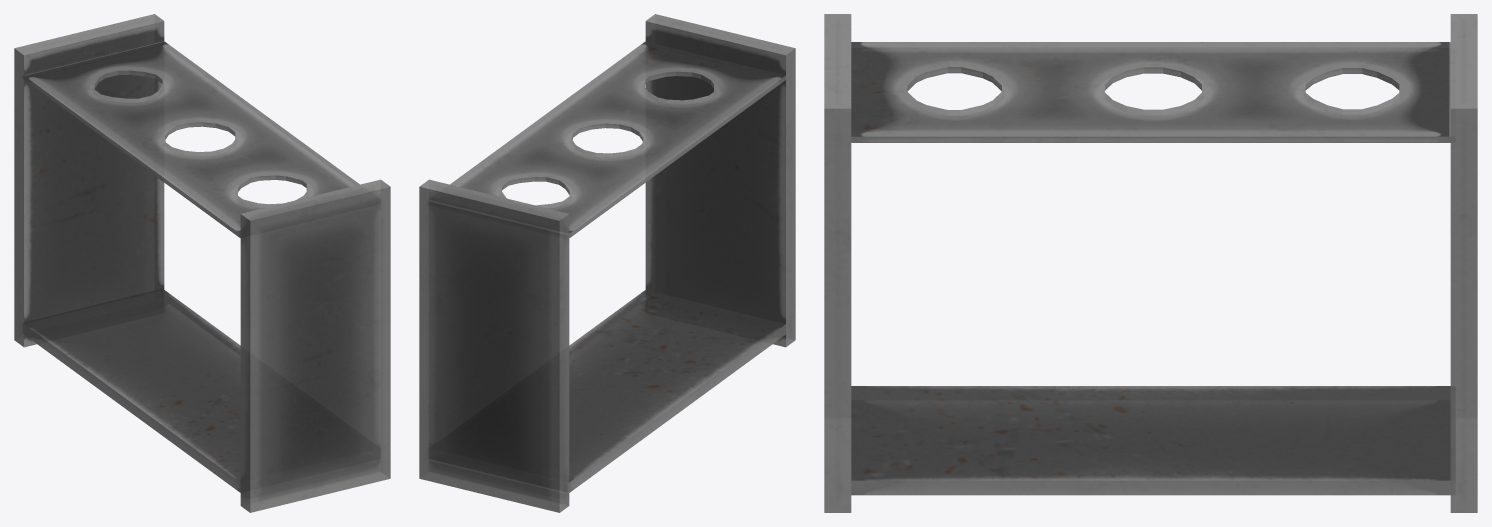
File: tubes_support.fbx
3 renders of one model, left to right at view 1: azimuth 30°, elevation 25°; view 2: azimuth 150°, elevation 25°; view 3: azimuth 270°, elevation 25°, orthographic. The views are drawn at different scales.
Visible parts, largest first — view 1: tubes_support; view 2: tubes_support; view 3: tubes_support.
Boxes of the visible parts, bbox=[...] form: tubes_support: bbox=[14, 14, 390, 512]; tubes_support: bbox=[419, 14, 795, 512]; tubes_support: bbox=[824, 14, 1477, 512].
Bounding box in the file's own units: 0.0534 × 0.1061 × 0.1554.
